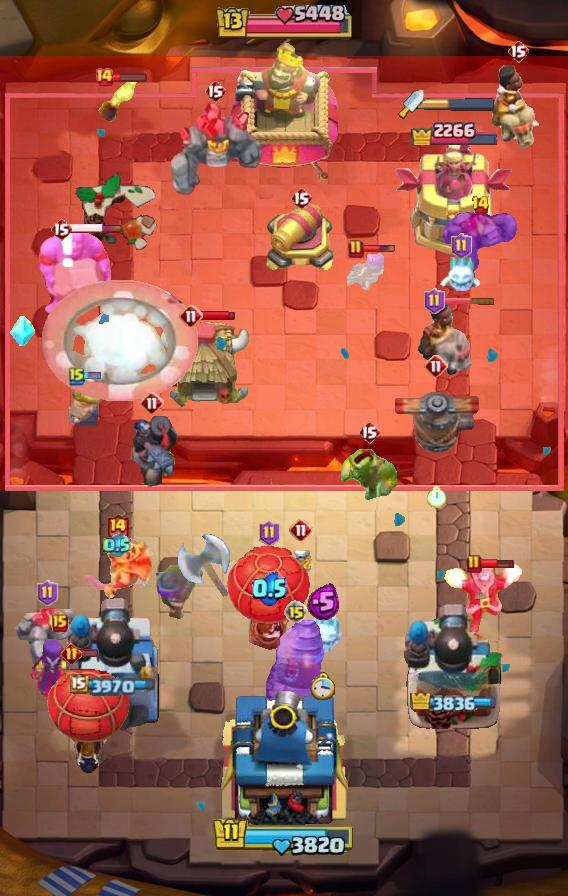archer-queen: (33, 226, 113, 320)
axe: (28, 636, 92, 706)
bar: (395, 142, 514, 256)
bat: (301, 606, 345, 656), (439, 257, 483, 295)
bomb-tower: (153, 562, 205, 622)
bomber: (96, 76, 140, 122)
cannon: (347, 252, 393, 296)
cannon-cart: (45, 656, 131, 774), (224, 541, 314, 651)
cannoneer-tower: (166, 99, 264, 201)
clock: (212, 816, 356, 858), (213, 5, 355, 43)
dark-prince: (391, 371, 481, 459)
electro-spirit: (308, 583, 341, 621), (252, 571, 288, 605), (103, 533, 131, 559)
elite-barbarian: (490, 64, 546, 152), (417, 300, 477, 376)
elixir: (310, 672, 336, 700), (427, 486, 446, 508)
emote: (69, 222, 123, 233), (442, 295, 496, 304), (200, 310, 236, 322), (112, 73, 148, 84), (479, 558, 515, 569), (362, 244, 396, 254), (82, 371, 102, 381), (81, 648, 100, 658)
flying-machine: (341, 449, 397, 503)
goblin-giant: (69, 381, 105, 427)
heal-spirit: (287, 546, 315, 576)
inferno-dragon: (121, 416, 183, 492)
king-tower: (214, 684, 354, 826), (230, 43, 338, 181)
king-tower-bar: (424, 97, 496, 111)
magic-archer: (266, 619, 326, 711)
mortar: (441, 561, 527, 635)
pad_2: (9, 316, 35, 348)
prince: (159, 320, 253, 410)
royal-giant: (175, 531, 233, 603)
royal-recruit: (265, 201, 337, 275)
selected: (408, 115, 498, 145), (70, 674, 158, 696), (411, 693, 498, 711)
skeleton-king: (81, 535, 153, 603)
text: (105, 513, 130, 544), (179, 304, 203, 328), (424, 354, 448, 378), (140, 391, 164, 415), (289, 518, 313, 542), (284, 600, 308, 624), (37, 580, 59, 606), (451, 233, 472, 259), (424, 288, 445, 314), (259, 520, 280, 546), (507, 39, 529, 63), (204, 79, 226, 103), (290, 186, 312, 210), (50, 217, 72, 241), (358, 420, 380, 444), (62, 644, 83, 665), (94, 67, 114, 87), (470, 195, 489, 215), (348, 239, 364, 259), (69, 366, 85, 386), (466, 554, 482, 574), (52, 614, 68, 632)
tower-bar: (66, 595, 162, 731), (403, 601, 503, 731)
valkyrie-evolution: (443, 210, 517, 272), (15, 608, 79, 668)
wall-breaker: (42, 278, 199, 401)
